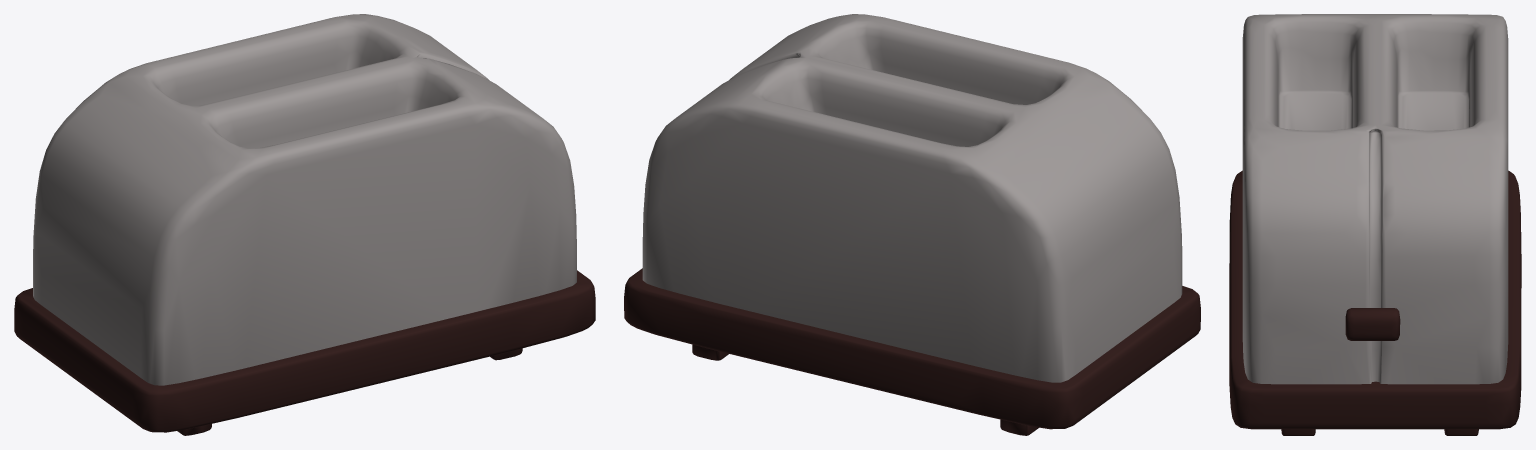
Rendered from Sandwichera.fbx.
3 renders of one model, left to right at view 1: azimuth 30°, elevation 25°; view 2: azimuth 150°, elevation 25°; view 3: azimuth 270°, elevation 25°, orthographic.
Visible parts, largest first — view 1: Cube.052; view 2: Cube.052; view 3: Cube.052.
Boxes of the visible parts, x1,y1,x2,y2 form: Cube.052: [14, 14, 595, 435]; Cube.052: [624, 14, 1200, 435]; Cube.052: [1229, 14, 1521, 435].
Size of the model in its own units: 6.58 by 3.82 by 3.61.
